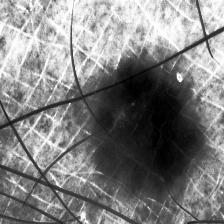Benign Marking or Mole: (92, 60, 204, 196)
